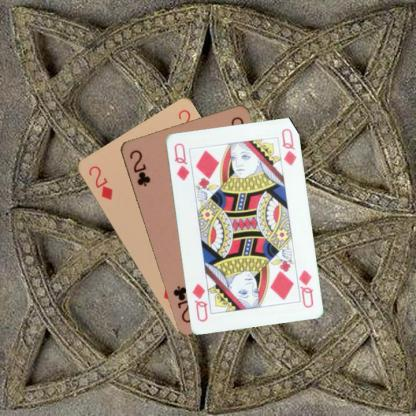2c: (126, 147, 152, 188)
2d: (85, 163, 114, 202)
Qd: (292, 265, 314, 309), (171, 140, 190, 182)
